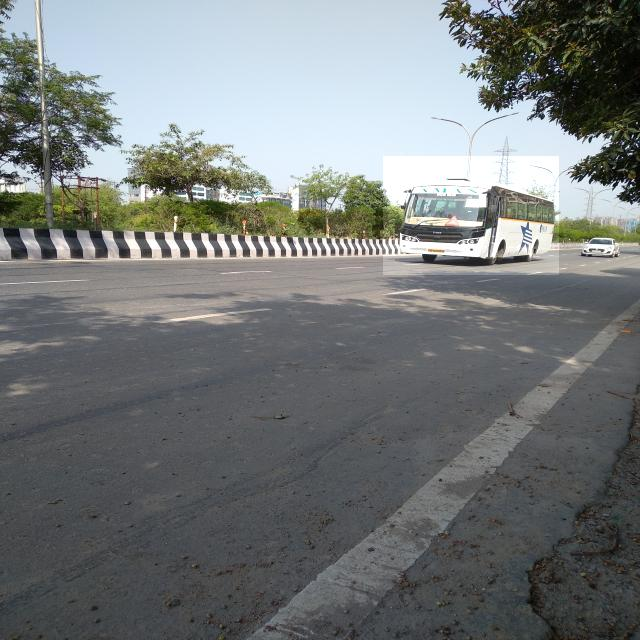Bus: (383, 156, 559, 275)
